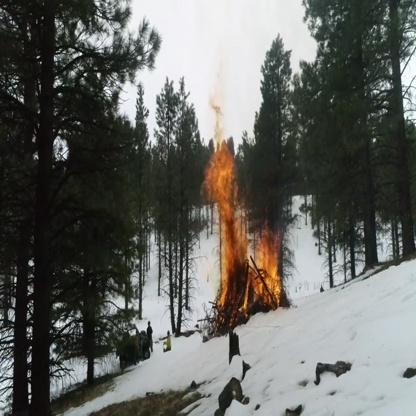Fire: (204, 103, 284, 324)
